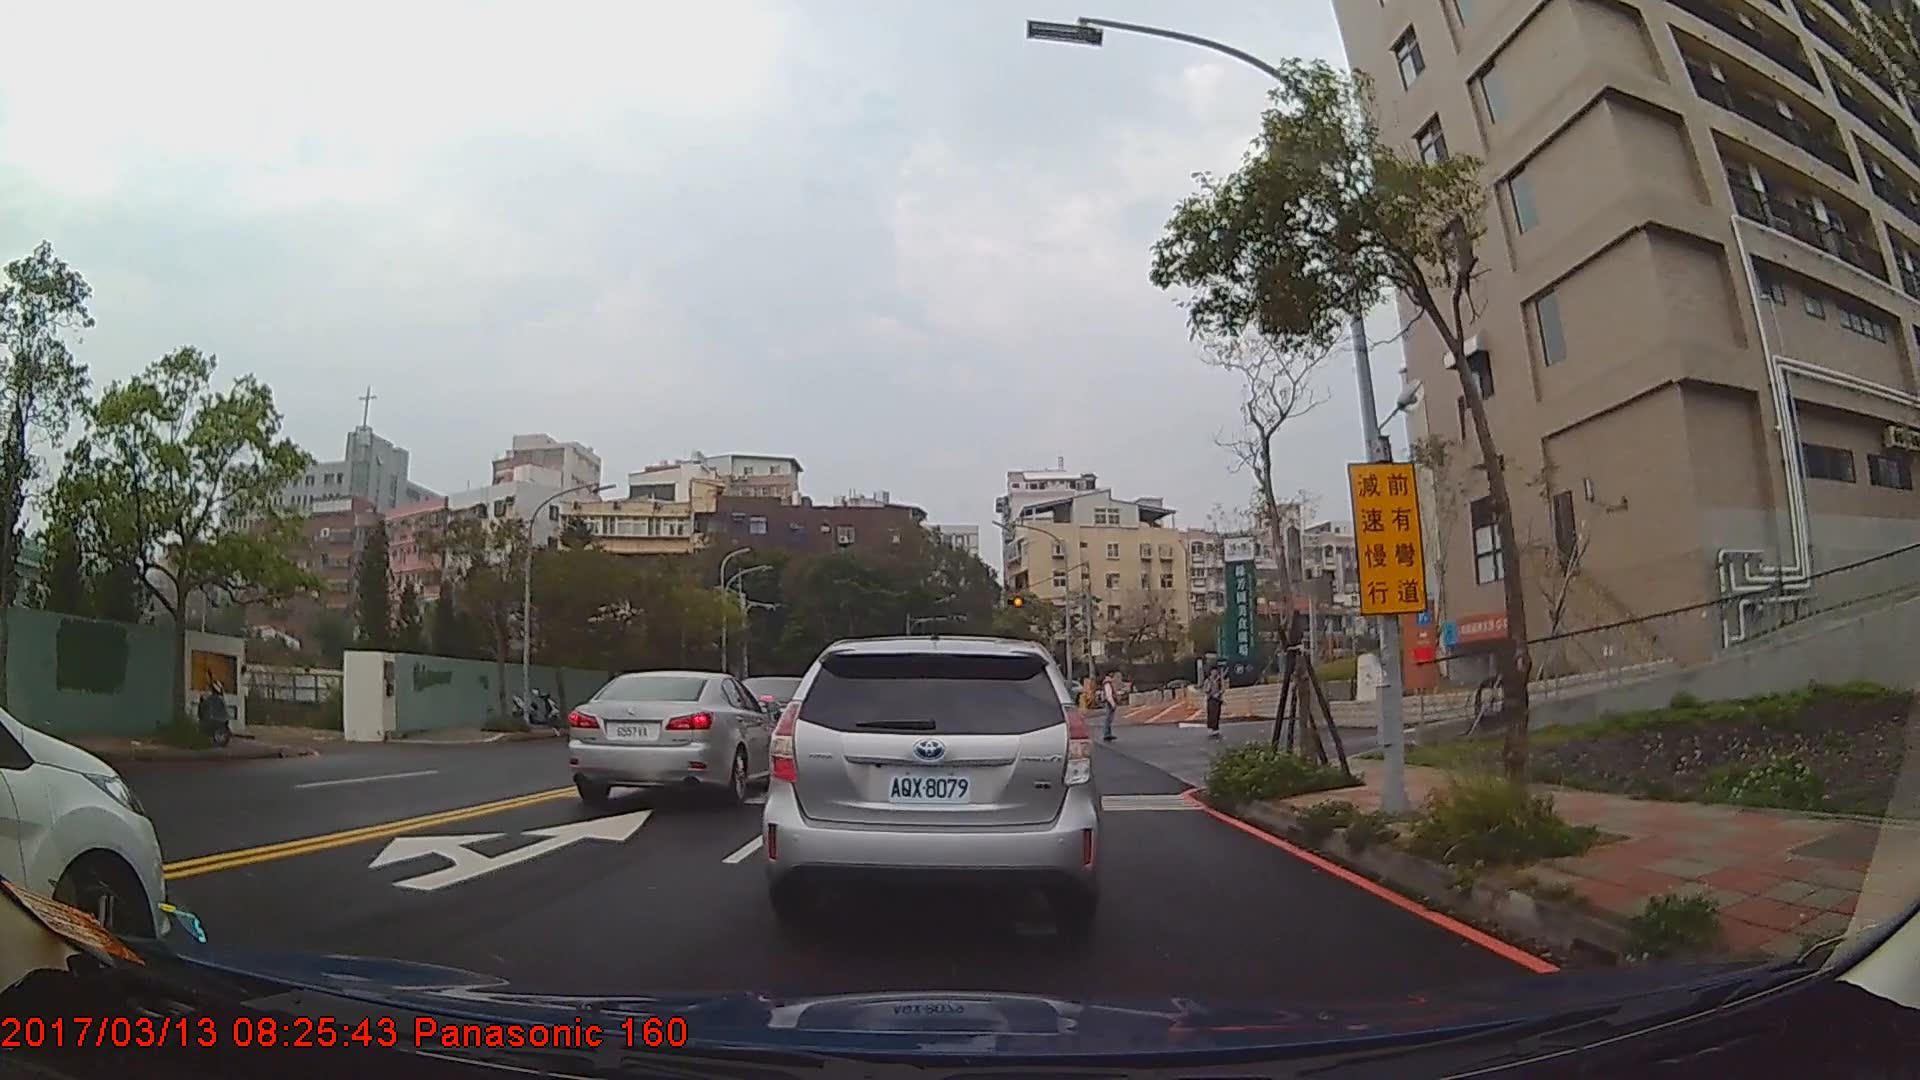pedestrian: (1100, 667, 1125, 743), (1204, 669, 1227, 739)
vehicle: (759, 634, 1102, 915), (0, 697, 166, 966), (567, 669, 789, 800)
